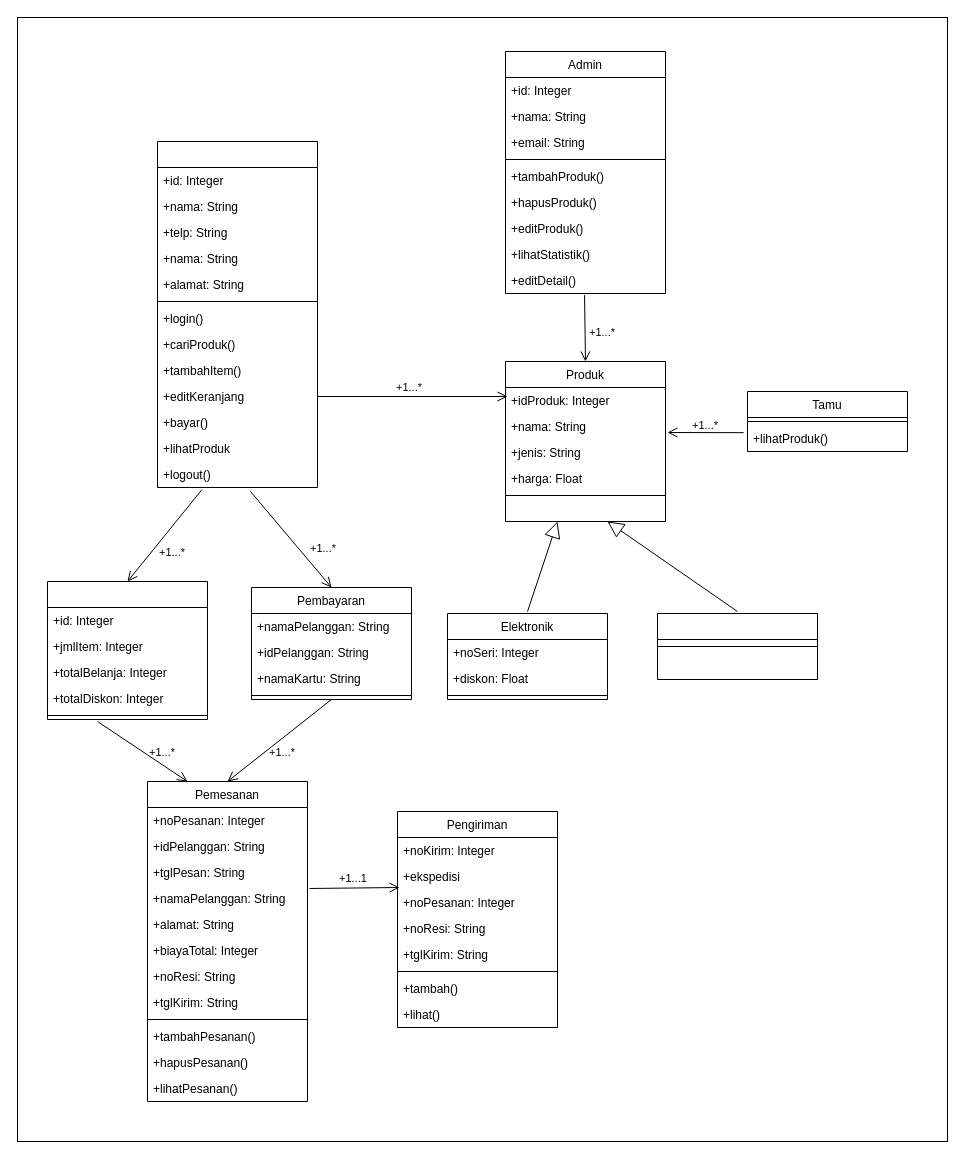
Image size: 965x1159. Some labels were removed from this diagram. Here are the shapes that lost their labels. From the top down, the box of each, then its label:
(156, 140, 318, 488): Pelanggan
(46, 580, 208, 720): Keranjang
(656, 612, 818, 680): nonElektronik
